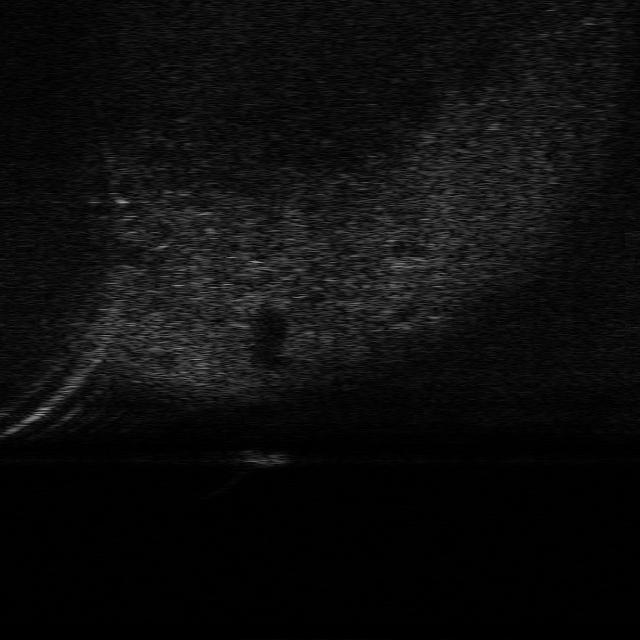cube: (237, 451, 295, 467)
